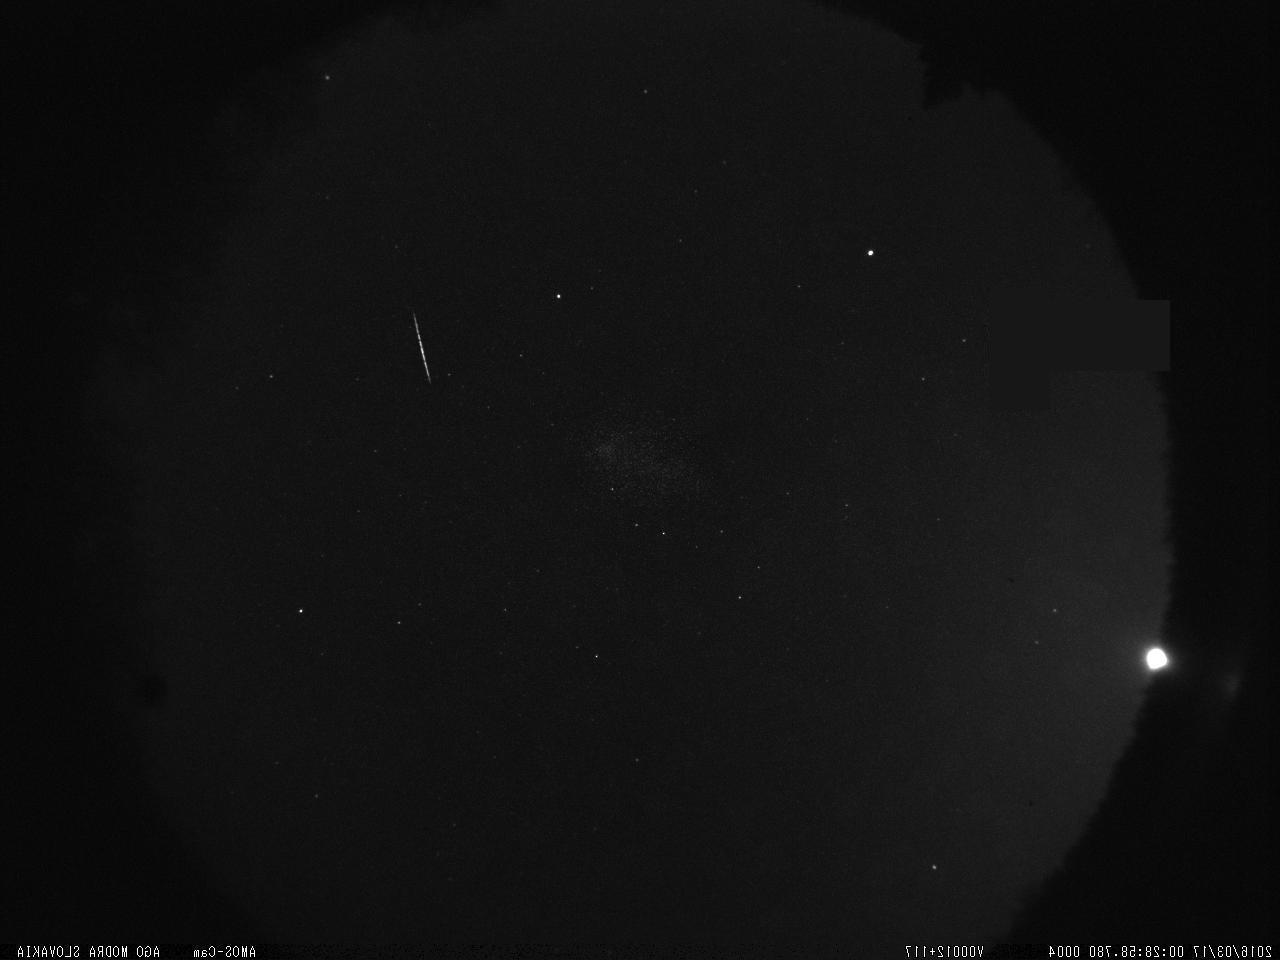meteor: (406, 306, 439, 390)
